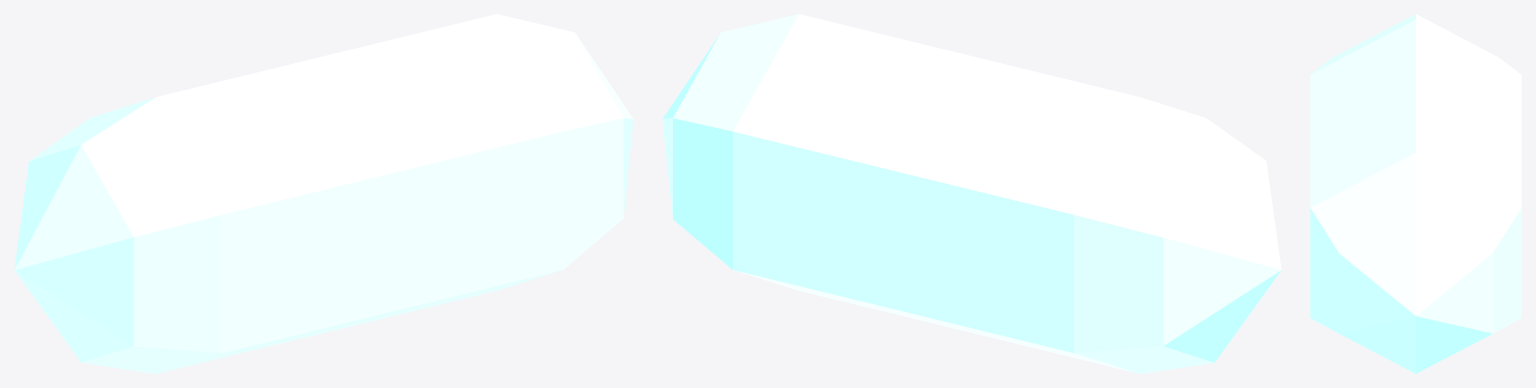
File: wall_shot1.fbx
3 renders of one model, left to right at view 1: azimuth 30°, elevation 25°; view 2: azimuth 150°, elevation 25°; view 3: azimuth 270°, elevation 25°, orthographic. The views are drawn at different scales.
Parts seen in each view (by area): view 1: wall_shot; view 2: wall_shot; view 3: wall_shot.
Boxes of the visible parts, x1,y1,x2,y2 form: wall_shot: [14, 14, 633, 373]; wall_shot: [662, 14, 1281, 373]; wall_shot: [1310, 14, 1521, 373].
Bounding box in the file's own units: 0.00427 × 0.00183 × 0.00158.
